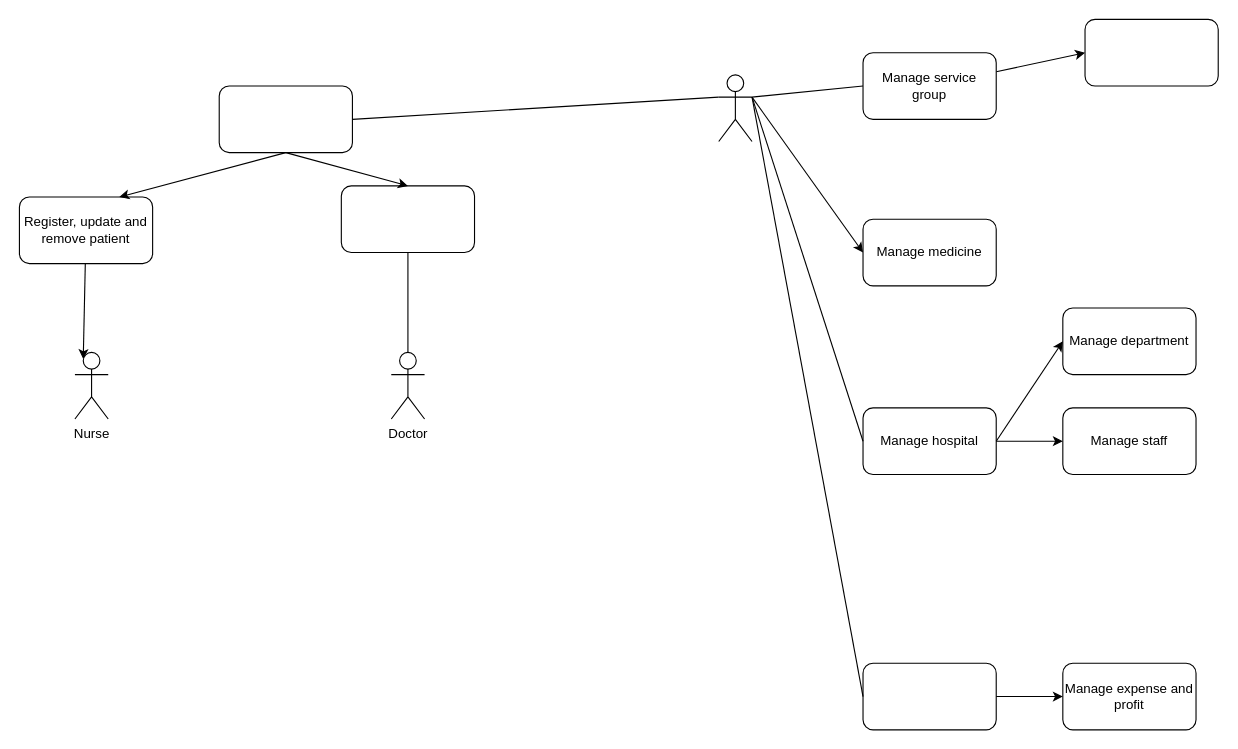
The diagram is 1238 pixels wide and 749 high, and some of its shapes have lost their labels. Here are the shapes that lost their labels. From the top down, the centre of each, then its label:
At [1151,52]: "Manage equipment".
At [285,119]: "Manage patient".
At [735,108]: "Admin".
At [407,219]: "Manage patient's record & prescription".
At [929,696]: "Manage accounting".
